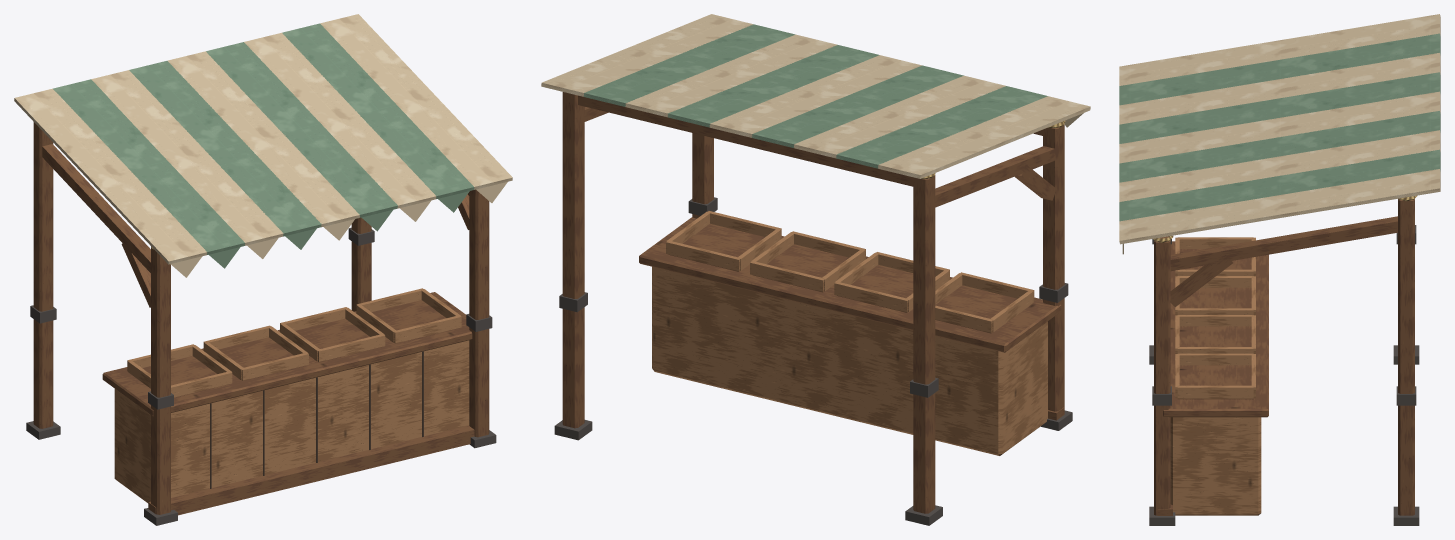
File: market_stall.glb
3 renders of one model, left to right at view 1: azimuth 30°, elevation 25°; view 2: azimuth 150°, elevation 25°; view 3: azimuth 270°, elevation 25°, orthographic. The views are drawn at different scales.
Visible parts, largest first — view 1: market_stall_canvas_canopy, market_stall_counter, market_stall_frame, market_stall_produce_trays; view 2: market_stall_counter, market_stall_canvas_canopy, market_stall_frame, market_stall_produce_trays; view 3: market_stall_canvas_canopy, market_stall_frame, market_stall_counter, market_stall_produce_trays.
Boxes of the visible parts, x1,y1,x2,y2 form: market_stall_canvas_canopy: (14,14,512,277); market_stall_counter: (102,292,474,515); market_stall_frame: (26,122,496,525); market_stall_produce_trays: (127,288,461,397); market_stall_counter: (639,217,1064,455); market_stall_canvas_canopy: (541,14,1090,178); market_stall_frame: (554,92,1072,525); market_stall_produce_trays: (666,211,1034,333); market_stall_canvas_canopy: (1119,14,1440,254); market_stall_frame: (1149,199,1419,525); market_stall_counter: (1157,241,1268,515); market_stall_produce_trays: (1175,237,1255,399).
Size of what is drawn, in the model's own units: 2.7 by 2.45 by 2.1.
7 materials, 7 textured.
